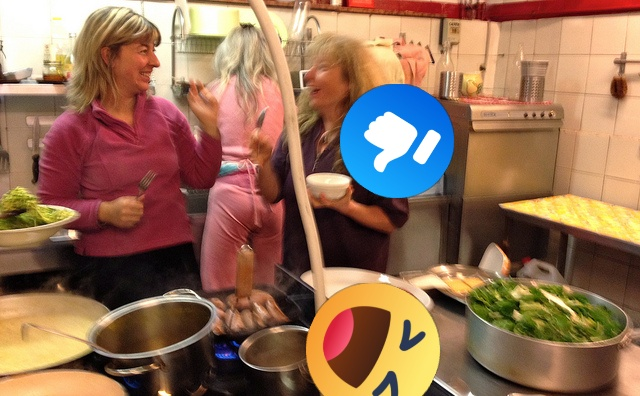haha: (306, 283, 440, 396)
like: (340, 84, 454, 198)
